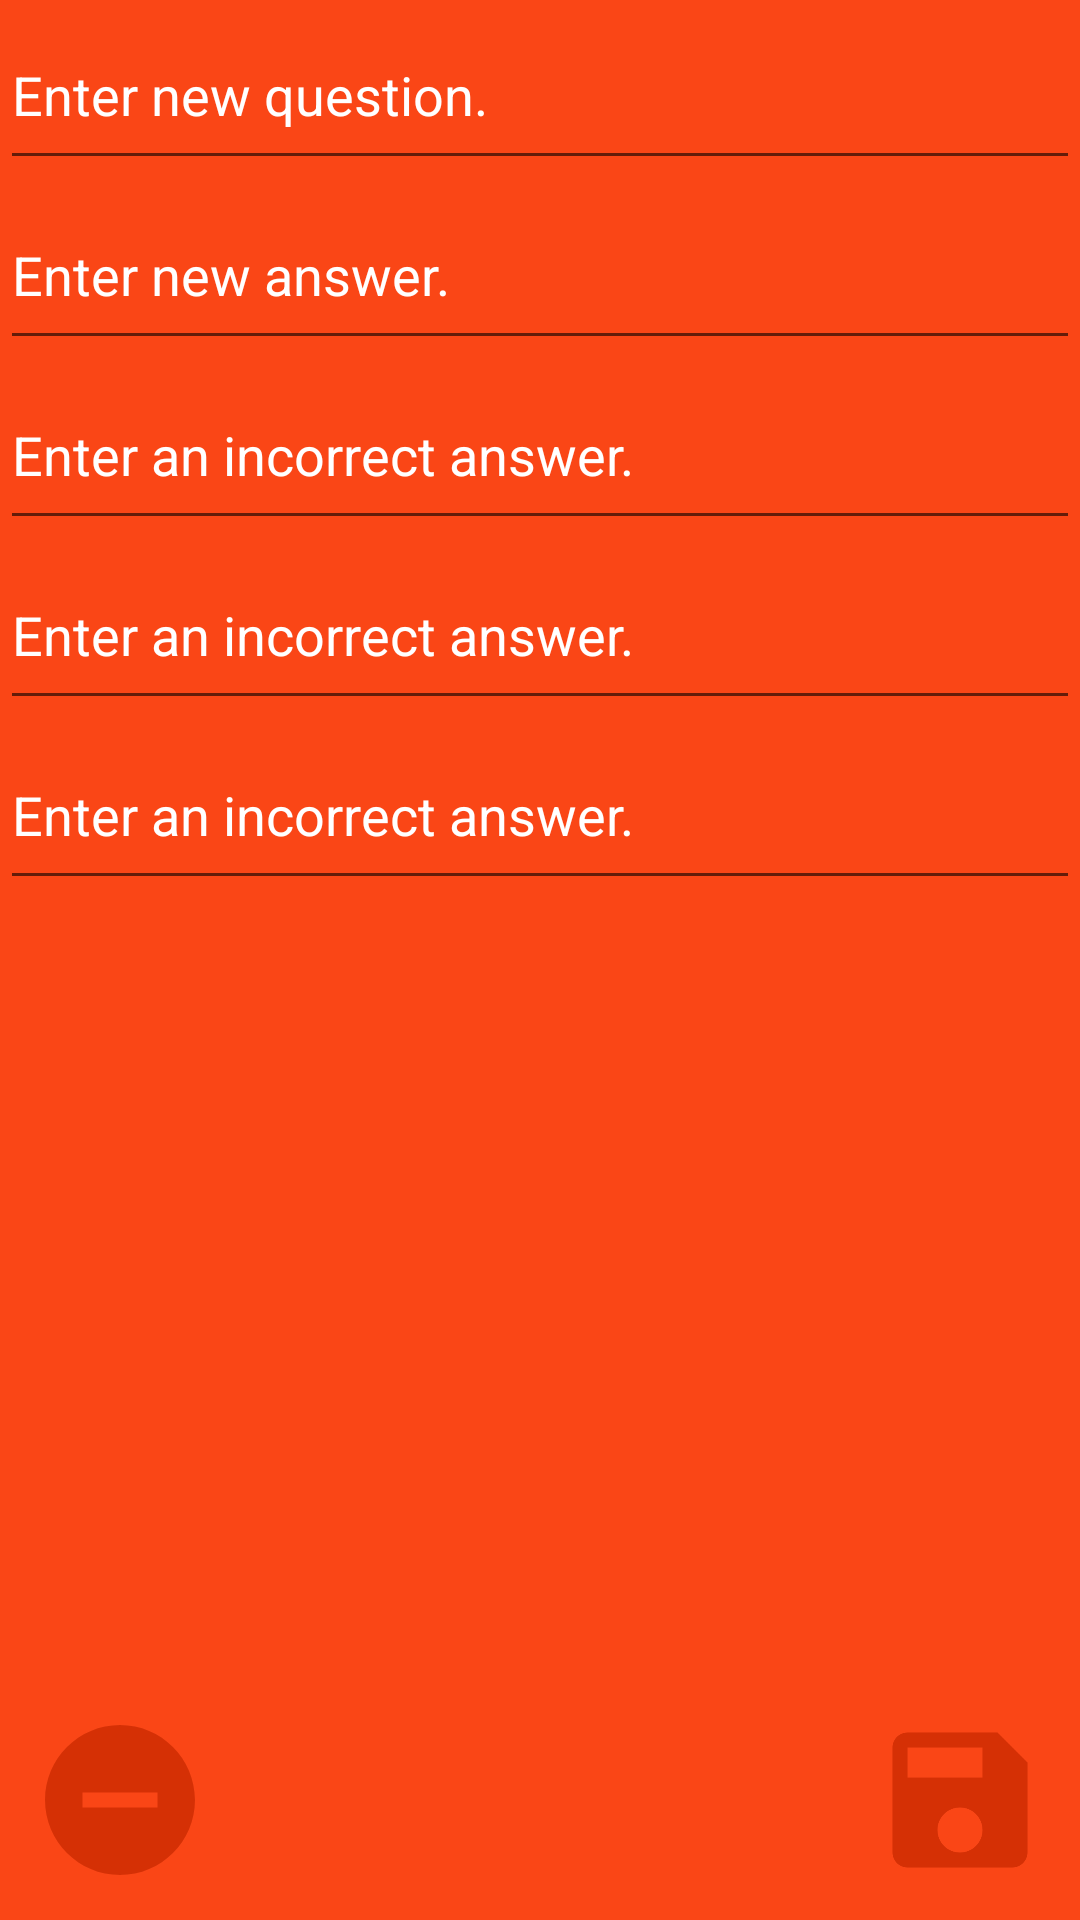

Icon click points for this 1080px×1920px phone screenshot, format (x=x, y=y):
remove circle: (x=120, y=1800)
save: (x=960, y=1800)
